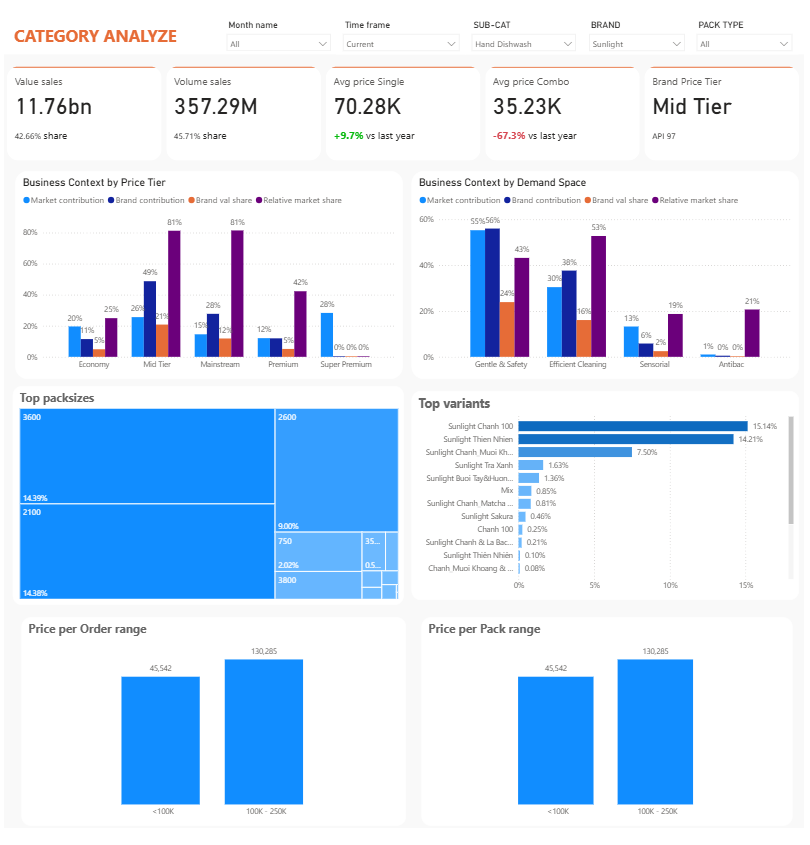

Layout of this report page (visuals, bound fields, positions):
{"tool":"powerbi","page":{"name":"Category","canvas":[1280,1300],"ordinal":1},"visuals":[{"type":"shape","box":[0,0,1280,61.4],"z":0},{"type":"clusteredBarChart","title":"Top variants","fields":{"Y":["_Measure.Cont"],"Category":["full data.DW Variant"]},"box":[651.4,600,620,334.3],"z":1000},{"type":"treemap","title":"Top packsizes","fields":{"Group":["full data.Pack Size (DW)"],"Values":["_Measure.Cont"]},"box":[14.3,591.4,625.7,350],"z":2000},{"type":"clusteredColumnChart","title":"Price per Order range","fields":{"Category":["Dim_PPL_Range.PPL Range"],"Y":["_Measure.Price per order"]},"box":[27.3,962.2,615,333.3],"z":3000},{"type":"clusteredColumnChart","title":"Business Context by Price Tier","fields":{"Category":["Dim_PriceTier.Price Tier"],"Y":["_Measure.Market share","_Measure.Value sales","_Measure.Brand share","_Measure.Relative market share"]},"box":[17.1,248.6,620,332.9],"z":4000},{"type":"clusteredColumnChart","title":"Price per Pack range","fields":{"Y":["_Measure.Price per order"],"Category":["Dim_PPP_Range.PPP Range"]},"box":[669,962.2,593.3,333.3],"z":5000},{"type":"slicer","fields":{"Values":["Dim_Brand.BRAND"]},"box":[925,0,173.3,61.7],"z":6000},{"type":"cardVisual","fields":{"Data":["_Measure.Total sales","_Measure.Total Volumes","_Measure.Avg price Single","_Measure.Avg price Combo","_Measure.Brand_Price_Tier"]},"box":[0,75,1280,160],"z":7000},{"type":"slicer","fields":{"Values":["Calendar.Month name"]},"box":[345,0,186.7,61.7],"z":8000},{"type":"slicer","fields":{"Values":["Time group.Time frame"]},"box":[531.7,0,206.7,61.7],"z":9000},{"type":"slicer","fields":{"Values":["full data.PACK TYPE"]},"box":[1098.6,0,172.9,61.4],"z":10000},{"type":"clusteredColumnChart","title":"Business Context by Demand Space","fields":{"Y":["_Measure.Market share","_Measure.Value sales","_Measure.Brand share","_Measure.Relative market share"],"Category":["full data.DW Demand Space"]},"box":[651.4,248.6,620,332.9],"z":11000},{"type":"slicer","fields":{"Values":["Dim_Category.SUB-CAT"]},"box":[738.6,0,187.1,61.4],"z":12000}]}

Visuals, with their boxes in screenshot pixels (x1, y1, x2, y2), scaled from the page's 1280x1300 canvas onto the 810x845 screenshot:
shape: bbox(0, 0, 809, 40)
"Top variants" clusteredBarChart: bbox(412, 390, 805, 607)
"Top packsizes" treemap: bbox(9, 384, 405, 612)
"Price per Order range" clusteredColumnChart: bbox(17, 625, 406, 842)
"Business Context by Price Tier" clusteredColumnChart: bbox(11, 162, 403, 378)
"Price per Pack range" clusteredColumnChart: bbox(423, 625, 799, 842)
slicer - Dim_Brand.BRAND: bbox(585, 0, 695, 40)
cardVisual - _Measure.Total sales x _Measure.Total Volumes: bbox(0, 49, 809, 153)
slicer - Calendar.Month name: bbox(218, 0, 336, 40)
slicer - Time group.Time frame: bbox(336, 0, 467, 40)
slicer - full data.PACK TYPE: bbox(695, 0, 805, 40)
"Business Context by Demand Space" clusteredColumnChart: bbox(412, 162, 805, 378)
slicer - Dim_Category.SUB-CAT: bbox(467, 0, 586, 40)
